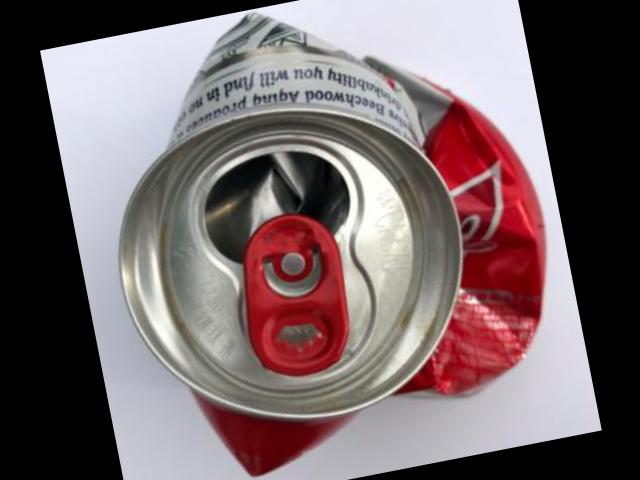metal: (120, 11, 545, 472)
